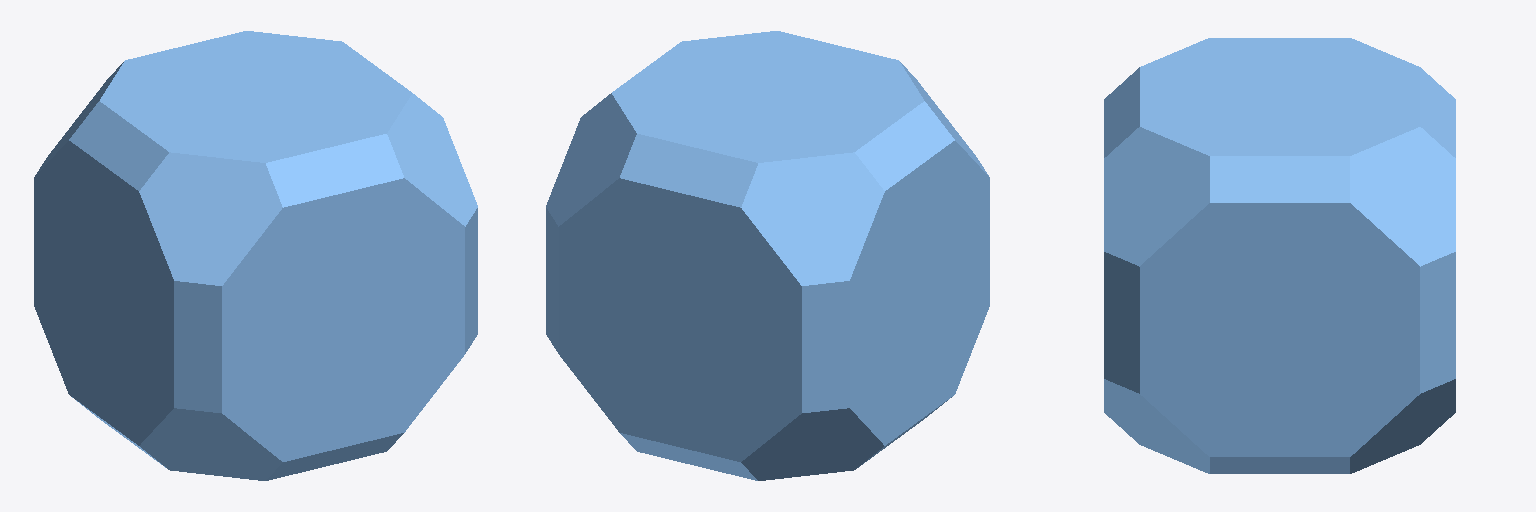
File: sprite.mc.obj
3 renders of one model, left to right at view 1: azimuth 30°, elevation 25°; view 2: azimuth 150°, elevation 25°; view 3: azimuth 270°, elevation 25°, orthographic.
Visible parts, largest first — view 1: Object.1; view 2: Object.1; view 3: Object.1.
Boxes of the visible parts, x1=… form: Object.1: x1=34, y1=31, x2=477, y2=480; Object.1: x1=546, y1=31, x2=989, y2=480; Object.1: x1=1104, y1=38, x2=1455, y2=473.
Size of the model in its own units: 127 by 127 by 127.